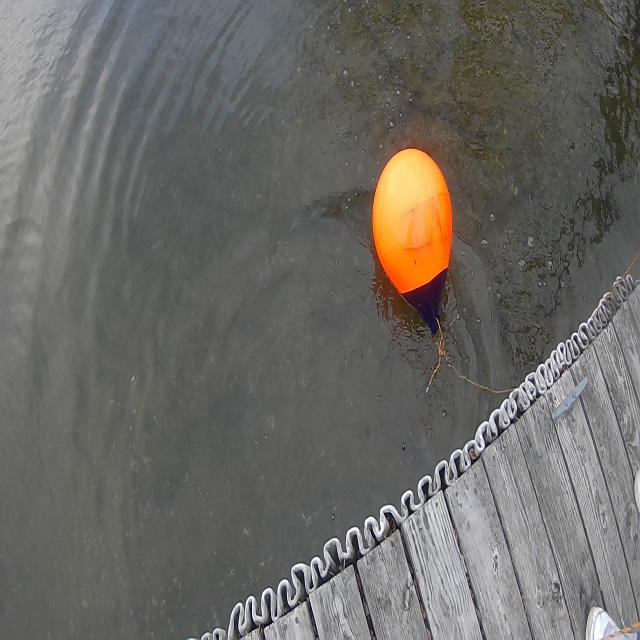Buoy: (371, 139, 457, 342)
